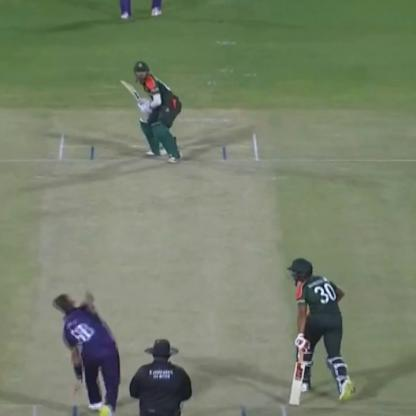bat: (114, 72, 156, 123), (286, 344, 316, 401)
pitch: (27, 124, 308, 416)
